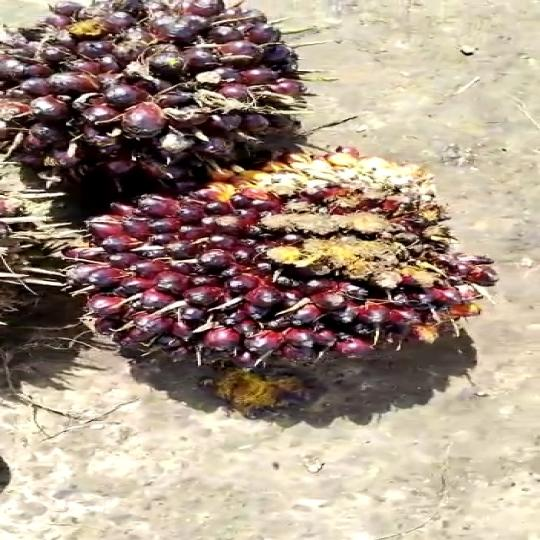kurang masak: (81, 139, 510, 385), (0, 0, 313, 181)
